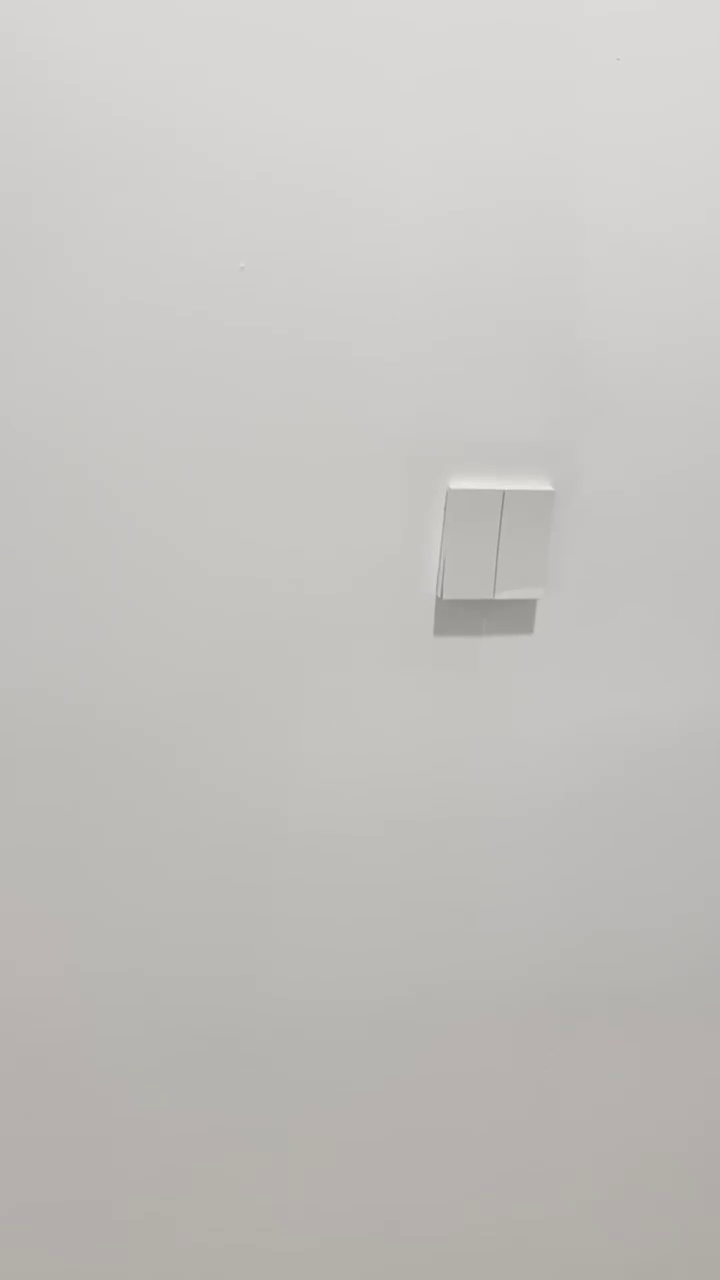button: (434, 474, 555, 607)
